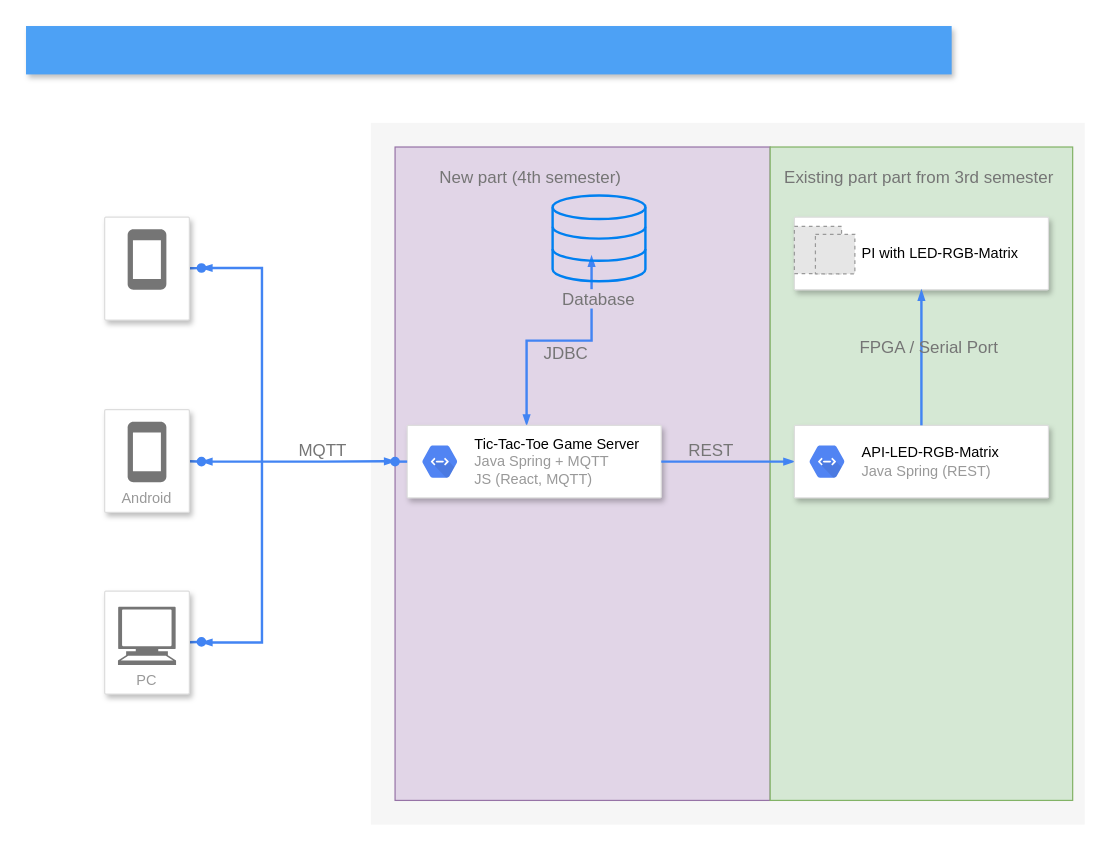
Some shapes in this 1105 by 845 pixel diagram are drawn without their labels. Grey dashed boxes stand in for pictures. Here are the shapes that lost their labels. From the top down, the centre of each, then its label:
At pixel 489 51: "Architecture: Mockup > Semesterarbeit".
At pixel 148 270: "iOS".
